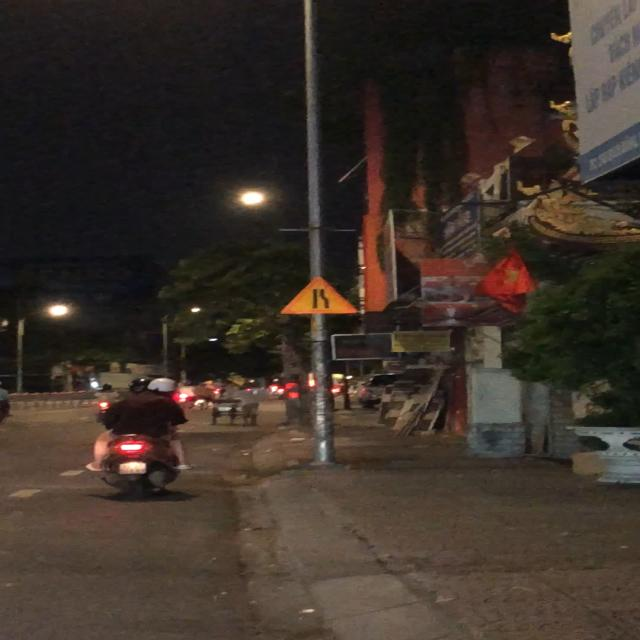Bien bao duong bi thu hep: (278, 274, 361, 316)
